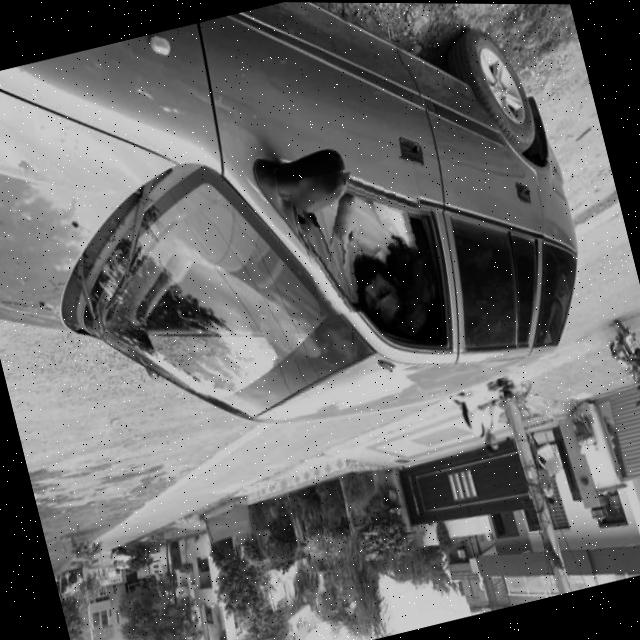no-seatbelt: (289, 152, 444, 324)
